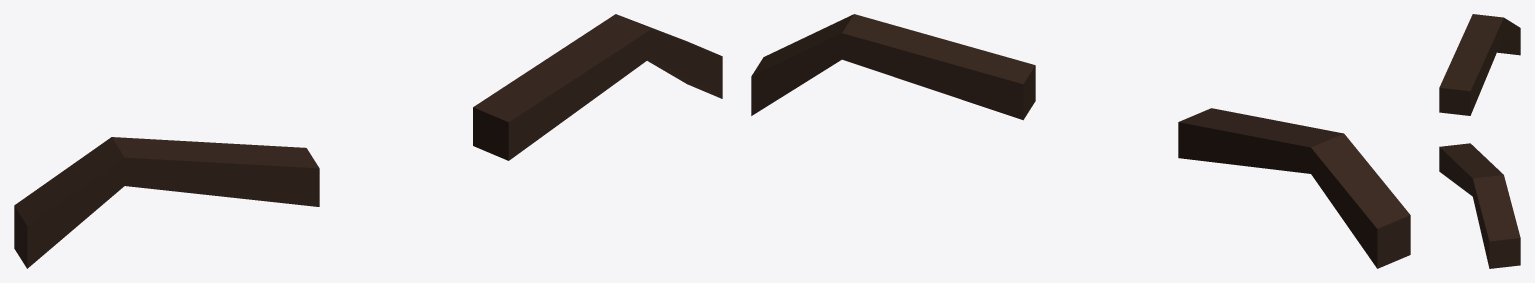
File: ShockEyebrowsM.glb
3 renders of one model, left to right at view 1: azimuth 30°, elevation 25°; view 2: azimuth 150°, elevation 25°; view 3: azimuth 270°, elevation 25°, orthographic. The views are drawn at different scales.
Parts seen in each view (by area): view 1: ShockEyebrowsM.001; view 2: ShockEyebrowsM.001; view 3: ShockEyebrowsM.001.
Part boxes in pixels (left/top/right/bottom): ShockEyebrowsM.001: left=14, top=14, right=722, bottom=268; ShockEyebrowsM.001: left=751, top=14, right=1410, bottom=268; ShockEyebrowsM.001: left=1439, top=14, right=1520, bottom=268.
Bounding box in the file's own units: 1.59 × 0.2195 × 0.2519.
